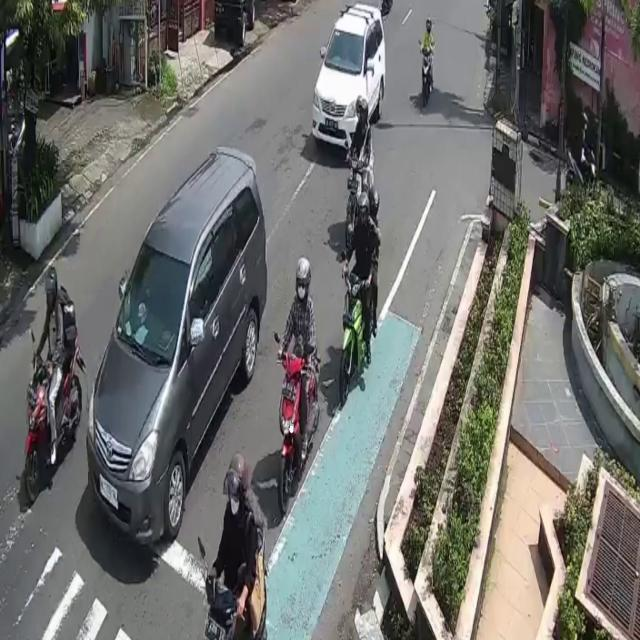car: (88, 146, 267, 545), (314, 5, 386, 153)
motorbike: (24, 325, 83, 499), (204, 519, 268, 640), (279, 348, 319, 512), (341, 269, 365, 401), (566, 142, 600, 202), (348, 155, 362, 246), (420, 40, 435, 104)
